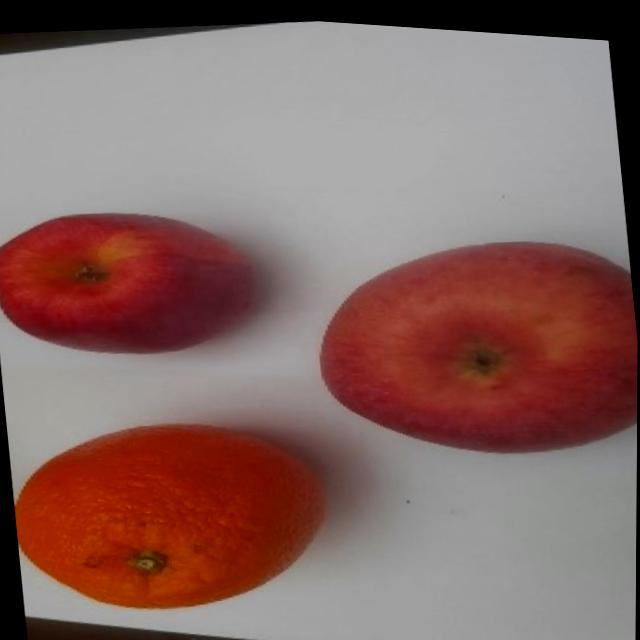Apple: (306, 209, 639, 471), (0, 188, 264, 372)
Orange: (6, 395, 336, 630)
